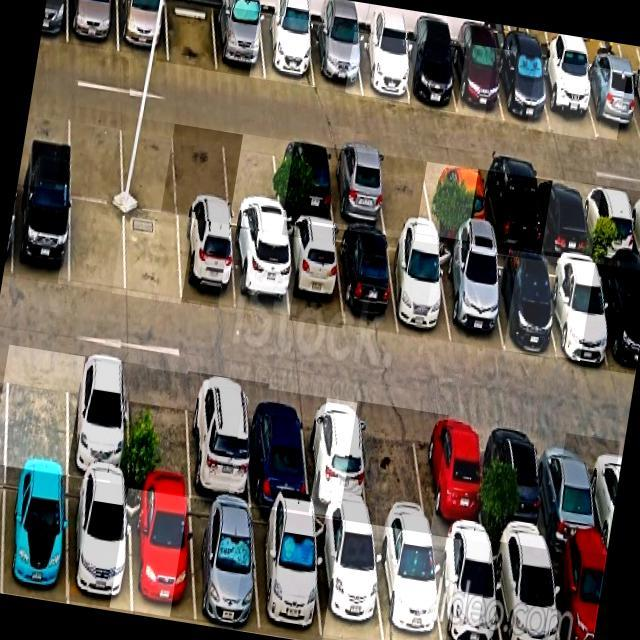empty: (358, 404, 431, 533), (129, 365, 192, 496), (6, 347, 68, 473), (224, 132, 281, 233), (120, 115, 177, 215), (125, 208, 181, 304), (176, 124, 230, 223), (70, 198, 125, 293), (69, 106, 122, 204), (376, 154, 435, 235), (166, 0, 218, 71)
occupied: (189, 498, 259, 631), (252, 508, 321, 640), (1, 469, 68, 603), (128, 488, 195, 621), (303, 395, 370, 522), (314, 517, 383, 640), (421, 412, 486, 542), (69, 477, 132, 611), (538, 429, 603, 557), (188, 375, 251, 504), (246, 385, 309, 512), (68, 354, 128, 484), (372, 529, 442, 640), (489, 421, 549, 549), (544, 257, 611, 365), (433, 535, 501, 640), (488, 254, 556, 355), (438, 247, 504, 351), (387, 237, 451, 343), (491, 543, 560, 640), (337, 229, 398, 332), (284, 222, 343, 326), (12, 185, 70, 286), (178, 218, 237, 311), (231, 228, 289, 320), (479, 170, 541, 255), (549, 550, 607, 640), (275, 141, 334, 224), (596, 264, 640, 375), (428, 162, 487, 244), (328, 148, 386, 229), (581, 65, 640, 144), (534, 177, 591, 258), (538, 60, 597, 138), (582, 183, 637, 264), (496, 50, 551, 130), (451, 43, 504, 121), (401, 40, 457, 113), (260, 13, 315, 87), (355, 32, 409, 103), (214, 4, 265, 79), (311, 25, 361, 93), (117, 0, 168, 60), (68, 0, 118, 52)
